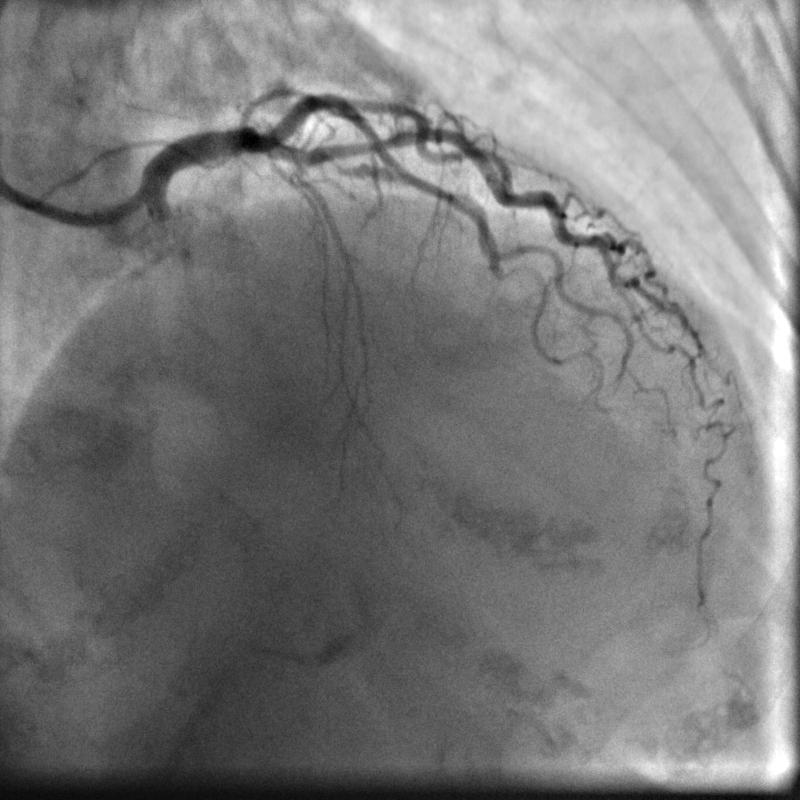Stenosis: (332, 156, 370, 180)
